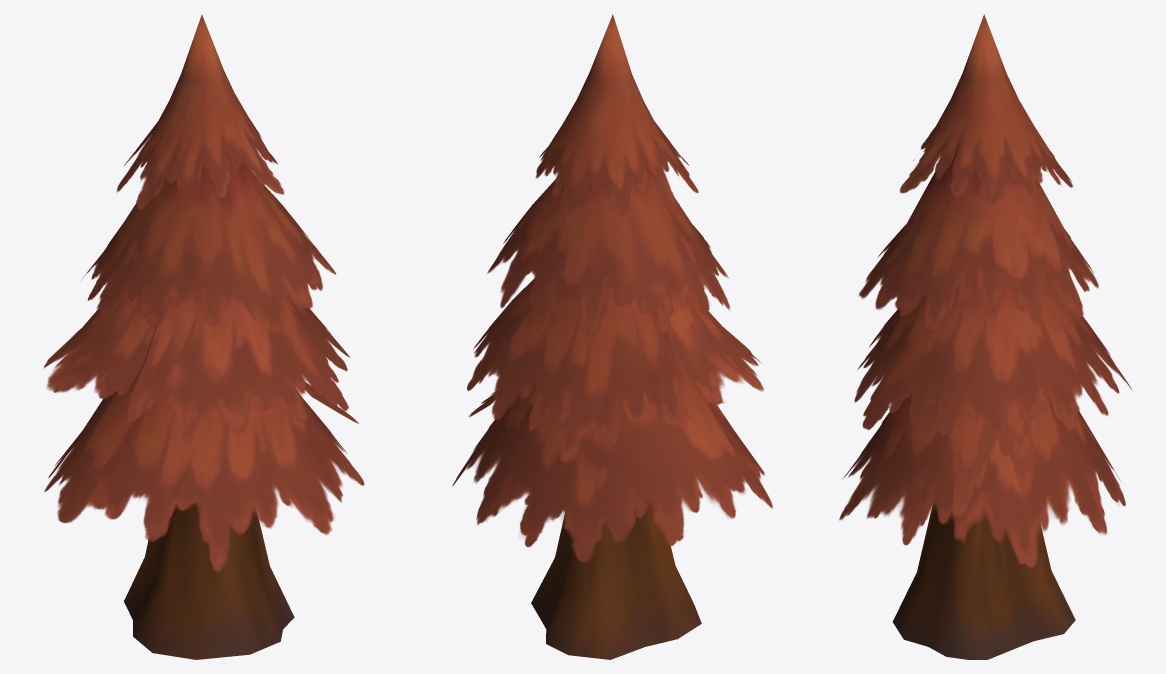
File: IGN_PineTree.glb
The picture shows the model from 3 angles, left to right: view 1: azimuth 30°, elevation 25°; view 2: azimuth 150°, elevation 25°; view 3: azimuth 270°, elevation 25°; orthographic projection.
Visible parts, largest first — view 1: PineTree; view 2: PineTree; view 3: PineTree.
Part boxes in pixels (x1=…): PineTree: x1=43, y1=14, x2=364, y2=659; PineTree: x1=452, y1=14, x2=772, y2=659; PineTree: x1=839, y1=14, x2=1132, y2=659.
Bounding box in the file's own units: 20.7 × 34.33 × 16.93.
1 material, 1 textured.
